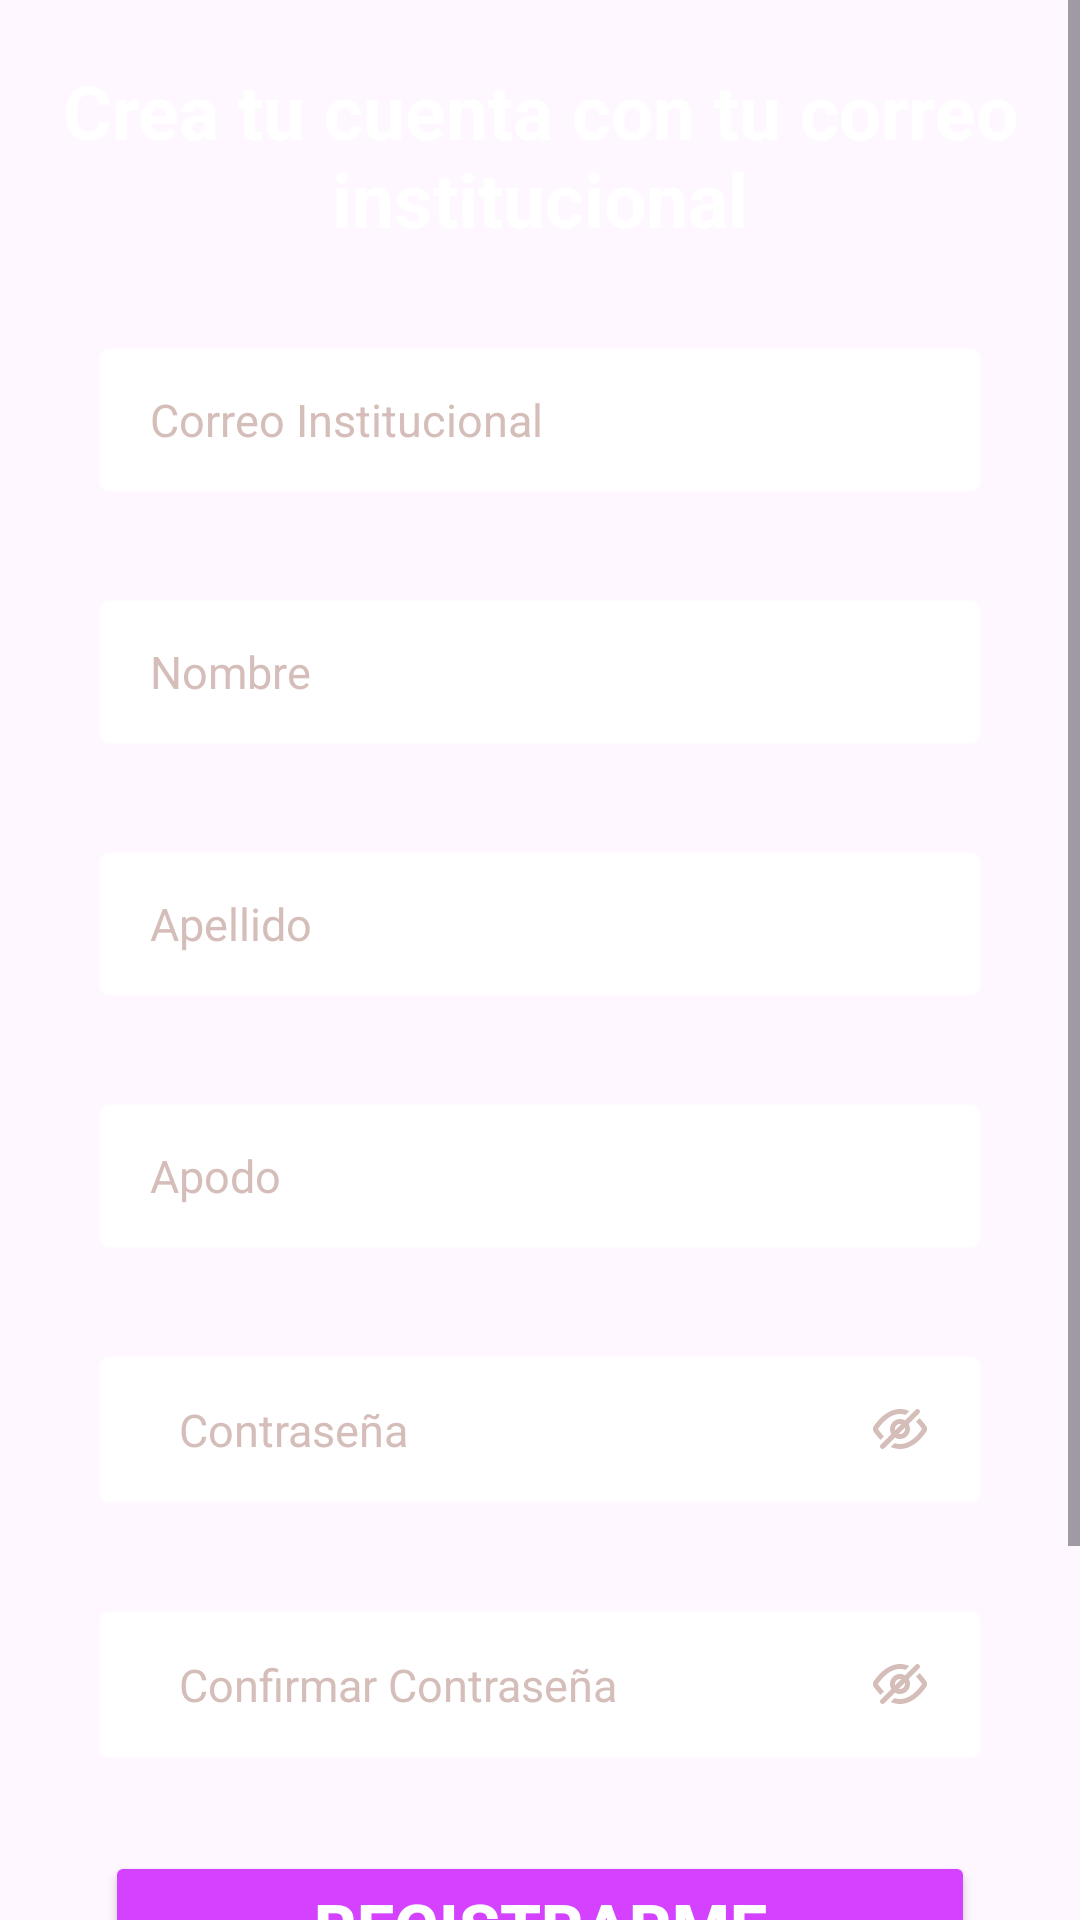

Screen size 1080 × 1920. Icon name, then its box in pixels as (x1, y1, x2, y2):
eye closed: (873, 1409, 927, 1449), (873, 1664, 927, 1704)
